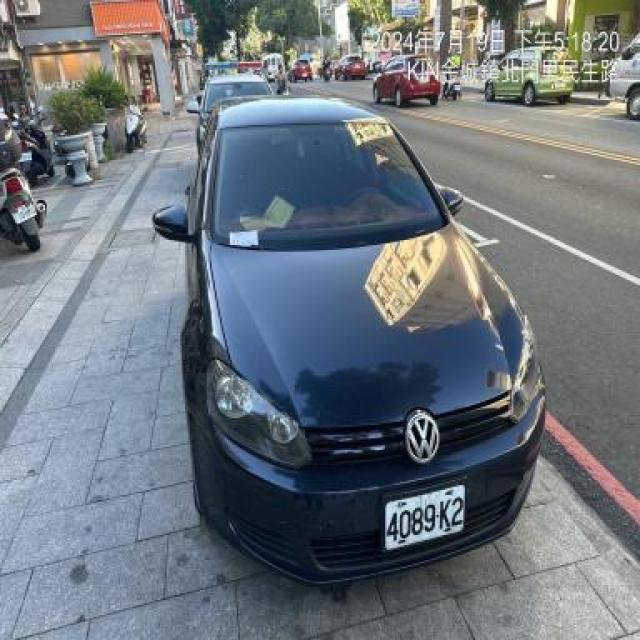Legalparking: (153, 73, 543, 583)
illegalparking: (485, 47, 575, 105), (375, 55, 442, 105), (598, 35, 638, 118)
